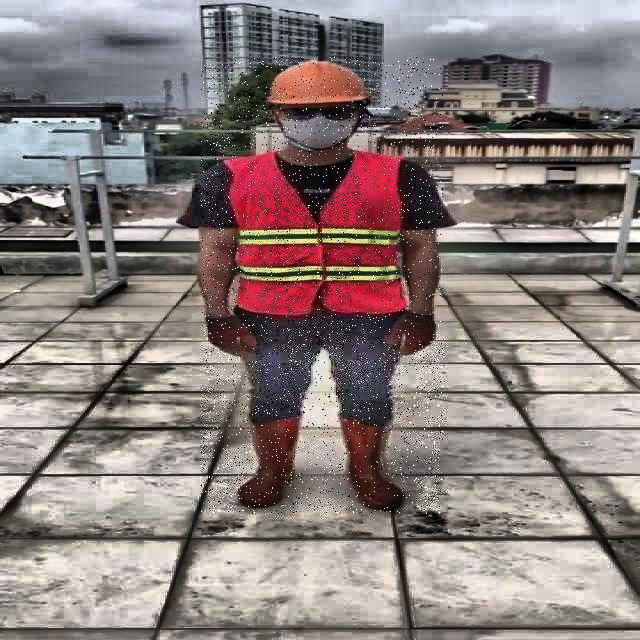safety_helmet: (268, 59, 372, 108)
safety_jacket: (228, 152, 410, 312)
